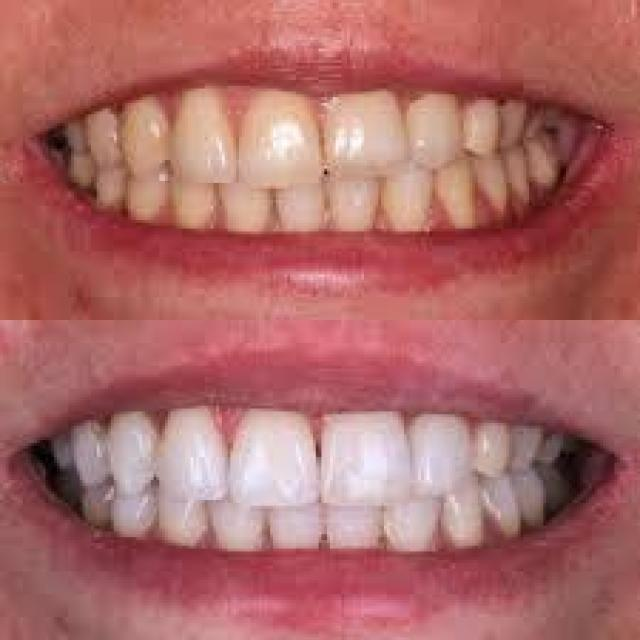tooth: (313, 400, 418, 509), (222, 392, 318, 508), (233, 74, 327, 189), (154, 389, 230, 497), (319, 88, 415, 168), (168, 92, 245, 188), (398, 403, 475, 486), (114, 88, 185, 166), (410, 89, 469, 174), (100, 408, 156, 492), (381, 146, 435, 226), (435, 151, 481, 243), (322, 160, 381, 226), (276, 168, 330, 232), (268, 486, 324, 546), (378, 492, 438, 548), (475, 408, 518, 486), (219, 168, 276, 226), (327, 483, 378, 543), (438, 477, 489, 537), (173, 166, 222, 228), (162, 477, 205, 546), (467, 91, 509, 160), (484, 468, 534, 523), (125, 163, 174, 217), (475, 154, 515, 220), (216, 497, 268, 546)
